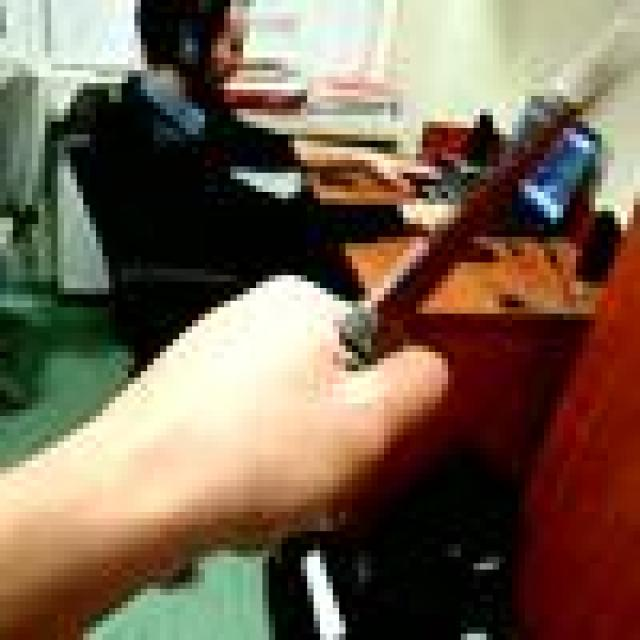knife: (352, 108, 592, 353)
